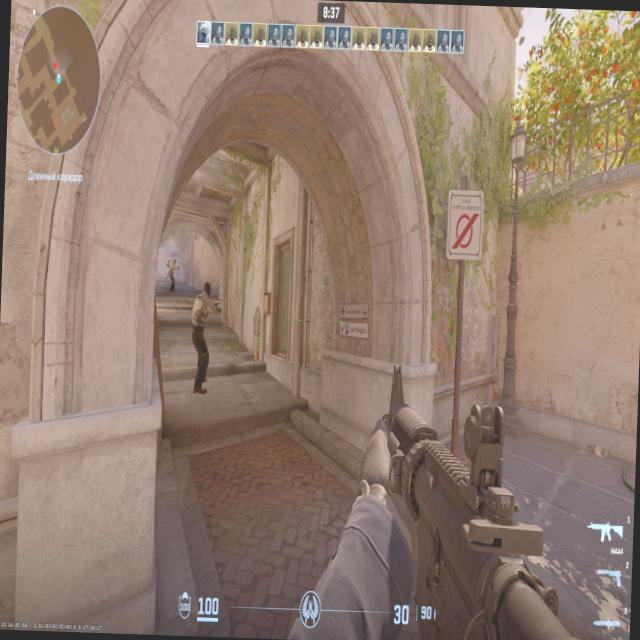T: (187, 284, 214, 399), (169, 258, 178, 292)
T_heat: (202, 285, 212, 300), (173, 258, 176, 267)
